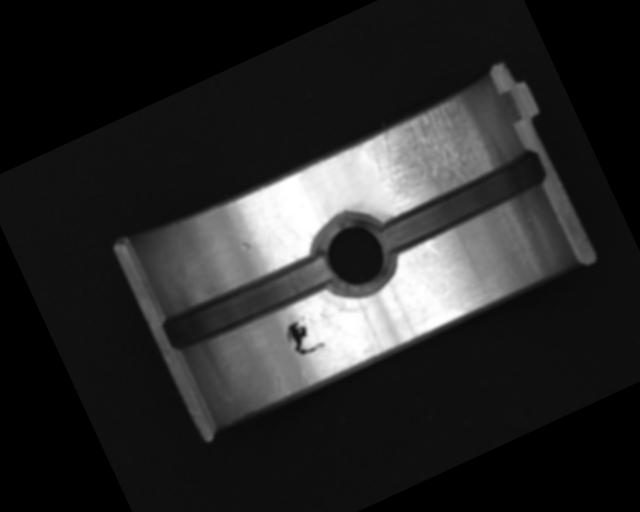blot: (279, 310, 328, 362)
bruise: (239, 240, 252, 252)
gap: (156, 244, 338, 359), (373, 148, 552, 256)
hole: (302, 198, 410, 308)
nick: (420, 237, 442, 261)
scratch: (355, 88, 507, 219)
